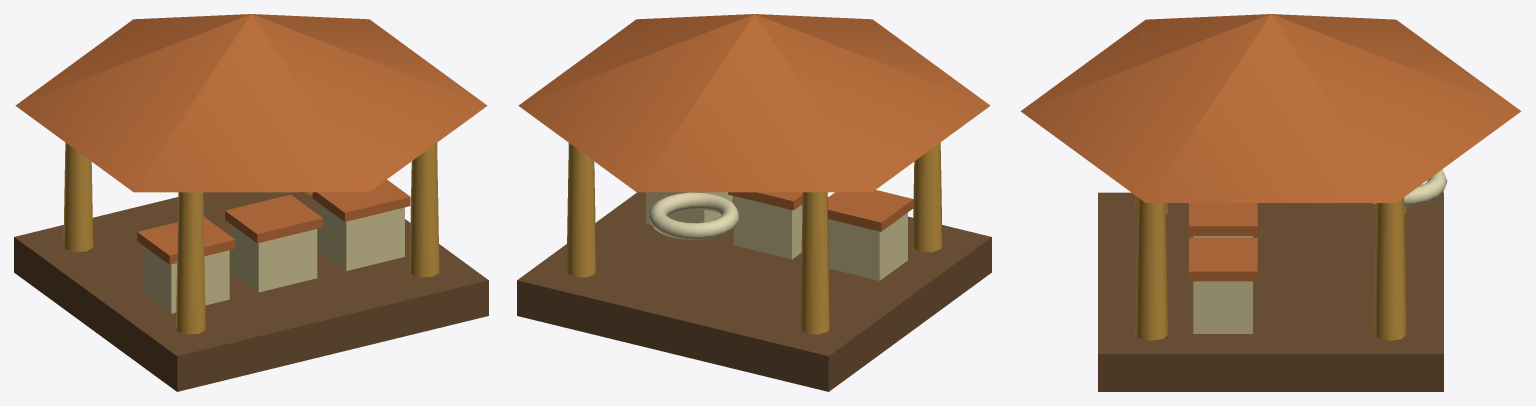
File: beekeeper_pavilion.glb
The picture shows the model from 3 angles, left to right: view 1: azimuth 30°, elevation 25°; view 2: azimuth 150°, elevation 25°; view 3: azimuth 270°, elevation 25°; orthographic projection. The views are drawn at different scales.
Visible parts, largest first — view 1: roof, deck, hive_0, hive_18, post_2, post_3, hive_lid_0, hive_-18, post_0, hive_lid_18, hive_lid_-18; view 2: roof, deck, post_0, hive_-18, post_1, hive_0, honey_sign, post_2, hive_lid_-18, hive_18, hive_lid_0; view 3: roof, deck, post_1, post_3, hive_18, hive_lid_18, hive_lid_0, honey_sign.
Boxes of the visible parts, x1=… form: roof: x1=15, y1=14, x2=487, y2=192; deck: x1=14, y1=192, x2=488, y2=391; hive_0: x1=230, y1=224, x2=317, y2=292; hive_18: x1=318, y1=203, x2=404, y2=270; post_2: x1=176, y1=167, x2=205, y2=334; post_3: x1=409, y1=106, x2=439, y2=277; hive_lid_0: x1=225, y1=194, x2=322, y2=243; hive_-18: x1=143, y1=245, x2=229, y2=313; post_0: x1=63, y1=78, x2=93, y2=252; hive_lid_18: x1=312, y1=179, x2=410, y2=221; hive_lid_-18: x1=137, y1=217, x2=235, y2=264; roof: x1=518, y1=14, x2=990, y2=192; deck: x1=517, y1=192, x2=991, y2=391; post_0: x1=800, y1=167, x2=829, y2=334; hive_-18: x1=828, y1=212, x2=907, y2=280; post_1: x1=566, y1=106, x2=596, y2=277; hive_0: x1=733, y1=196, x2=802, y2=259; honey_sign: x1=649, y1=192, x2=739, y2=239; post_2: x1=912, y1=78, x2=942, y2=252; hive_lid_-18: x1=827, y1=190, x2=913, y2=231; hive_18: x1=646, y1=192, x2=732, y2=225; hive_lid_0: x1=728, y1=192, x2=802, y2=210; roof: x1=1020, y1=14, x2=1521, y2=202; deck: x1=1098, y1=192, x2=1443, y2=391; post_1: x1=1374, y1=161, x2=1406, y2=340; post_3: x1=1135, y1=161, x2=1167, y2=340; hive_18: x1=1193, y1=281, x2=1252, y2=333; hive_lid_18: x1=1189, y1=237, x2=1257, y2=281; hive_lid_0: x1=1189, y1=203, x2=1257, y2=235; honey_sign: x1=1372, y1=169, x2=1447, y2=206.
Bounding box in the file's own units: 7.27 × 5.5 × 8.4.
